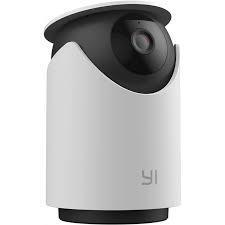maru: (28, 0, 200, 225)
